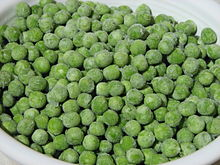boiled peas: (15, 9, 191, 141)
